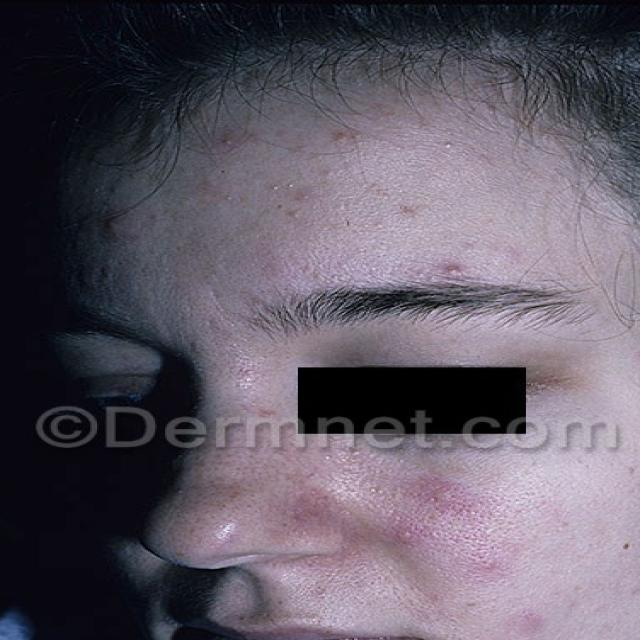Vascular Tumors: (178, 125, 524, 282), (399, 460, 632, 640)
